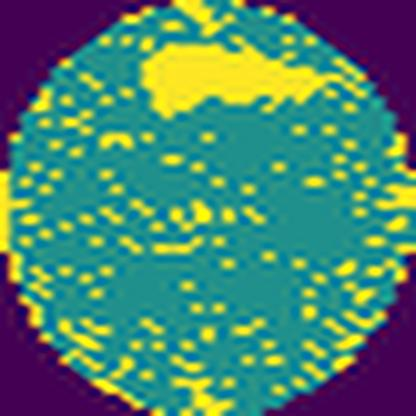Edge-Loc: (141, 32, 363, 116)
